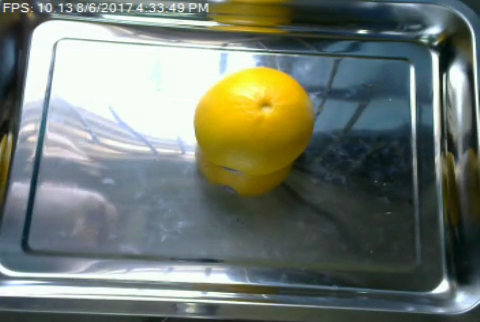Orange: (193, 66, 313, 174)
